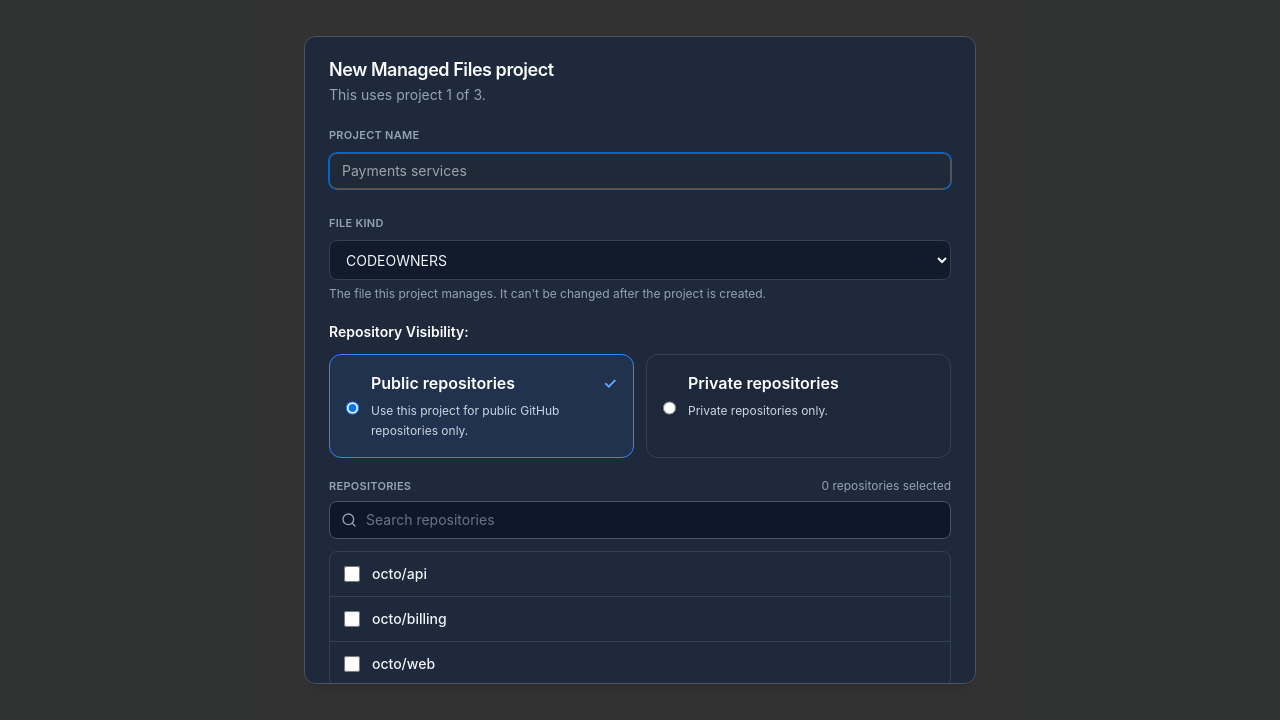
Test: NewManagedFilesProjectDialog › asks again for another kind, and drops picks that kind holds
Click the checkbox with test id "available-checkbox-octo/web" at (352, 664), box [344,656,360,672]
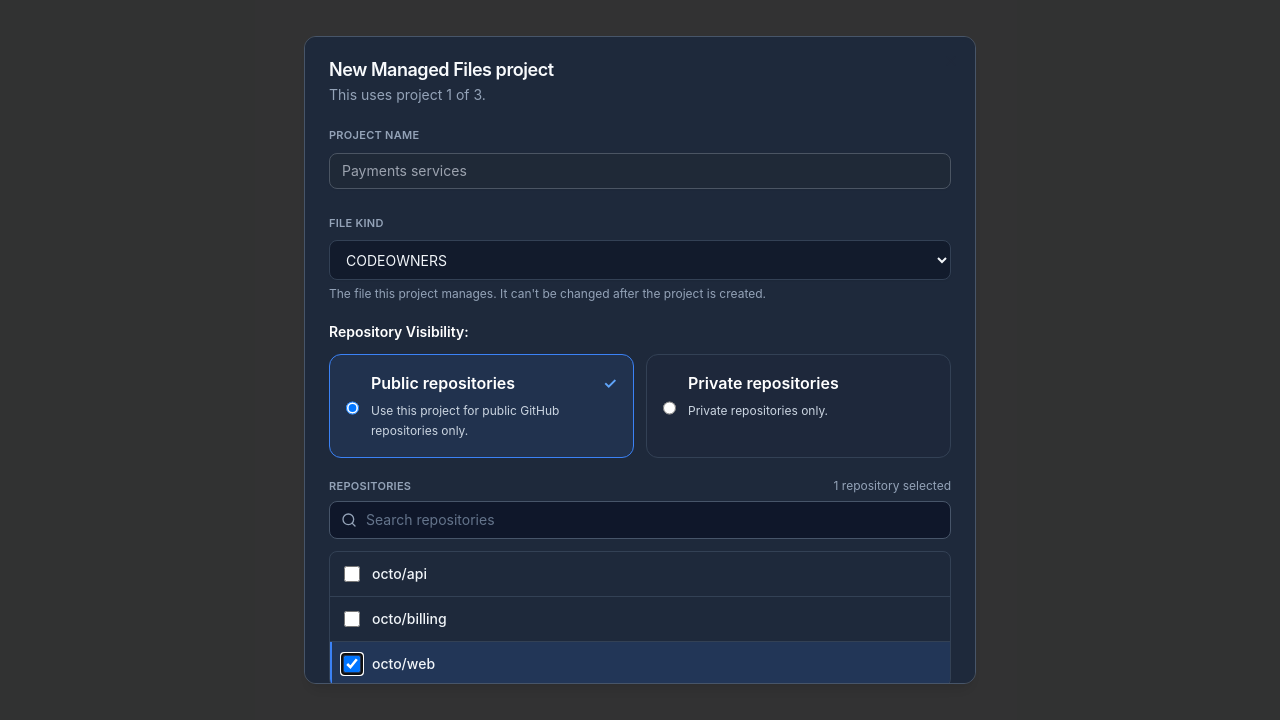
expect the text with test id "managed-files-selected-count" reads "1 repository selected": met, box [834,478,951,493]
Select "Dependabot" in the dropdown with test id "managed-files-kind" at (640, 260), box [329,240,951,280]
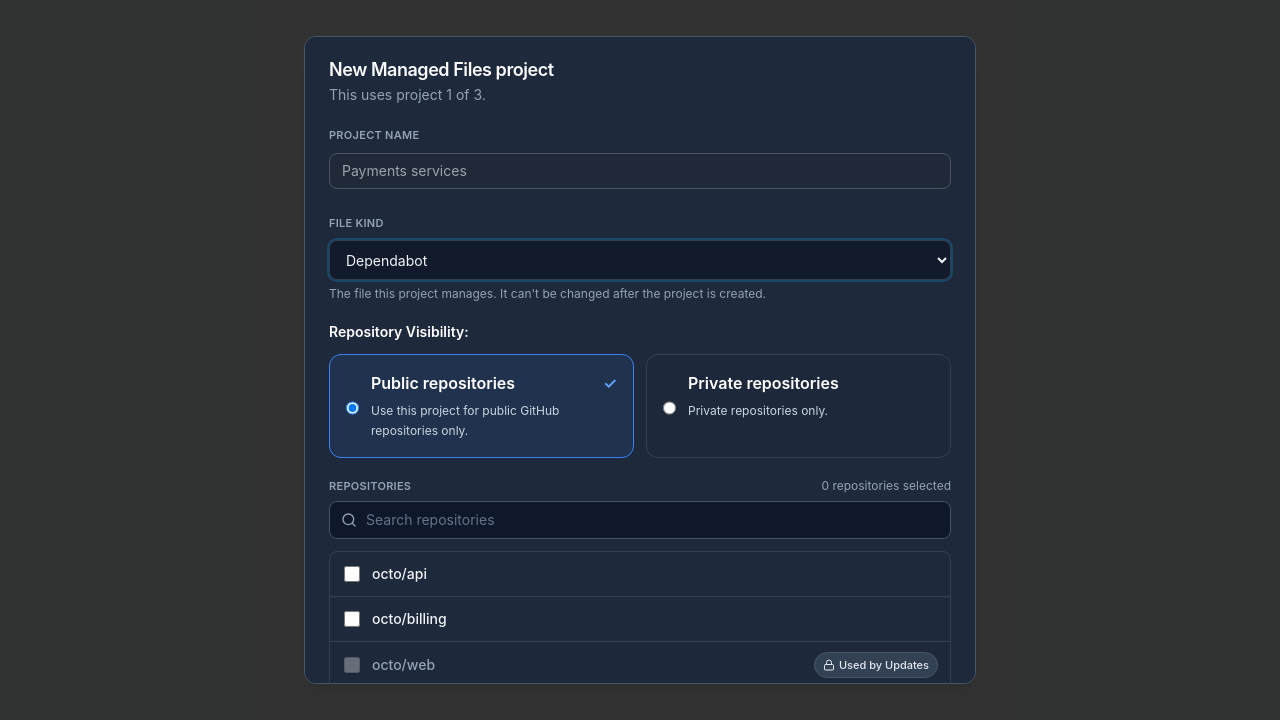
expect the text with test id "managed-files-selected-count" reads "0 repositories selected": met, box [822,478,951,493]
